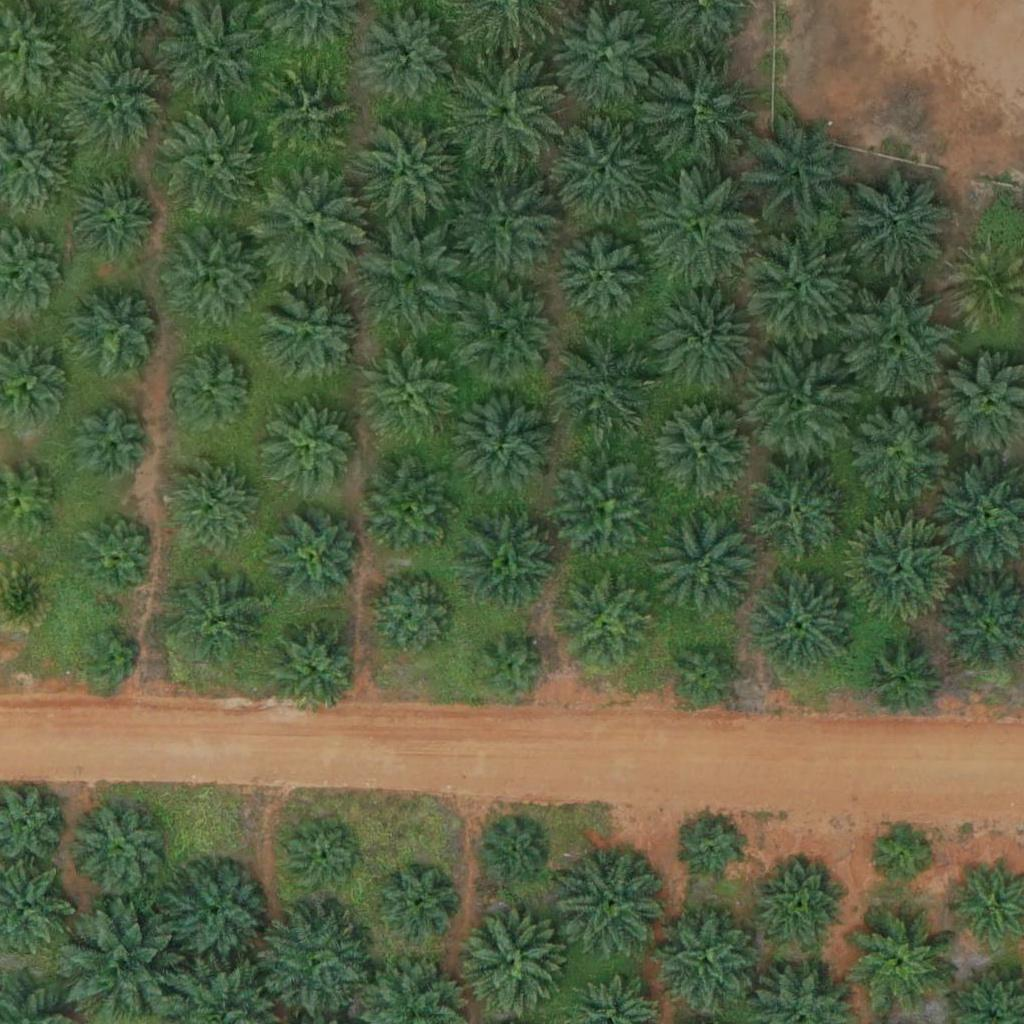Kelapa_Sawit: (845, 168, 958, 282), (843, 284, 956, 398), (743, 119, 856, 233), (448, 58, 561, 171), (447, 163, 560, 276), (350, 112, 463, 225), (743, 225, 855, 339), (646, 58, 758, 172), (845, 518, 957, 631), (740, 350, 852, 463), (643, 172, 755, 285), (547, 117, 659, 230), (356, 219, 468, 332), (254, 168, 366, 281), (153, 107, 265, 220), (549, 2, 661, 115), (256, 901, 368, 1014), (748, 466, 848, 567), (752, 573, 852, 674), (654, 289, 754, 390), (655, 402, 755, 503), (655, 511, 755, 612), (554, 334, 654, 435), (556, 460, 656, 561), (556, 572, 656, 673), (462, 284, 562, 385), (456, 392, 556, 493), (457, 514, 557, 615), (363, 341, 463, 442), (362, 458, 462, 559), (261, 283, 361, 384), (260, 399, 360, 500), (164, 227, 264, 328), (61, 49, 161, 150), (463, 910, 563, 1011), (565, 851, 665, 952), (656, 908, 756, 1009), (853, 912, 953, 1013), (849, 406, 949, 506), (263, 616, 363, 716), (169, 566, 269, 666), (164, 864, 264, 964), (264, 69, 352, 158), (368, 572, 456, 660), (556, 236, 643, 324), (273, 512, 360, 600), (167, 343, 254, 431), (169, 455, 256, 543), (66, 173, 153, 261), (72, 292, 159, 380), (365, 12, 452, 100), (74, 805, 161, 893), (762, 861, 849, 949), (72, 407, 147, 483), (285, 822, 360, 898), (474, 631, 549, 707), (79, 516, 154, 592), (382, 866, 457, 941), (866, 645, 941, 720), (670, 639, 745, 714), (483, 820, 546, 883), (81, 629, 143, 692), (683, 818, 745, 881), (869, 819, 931, 882)
